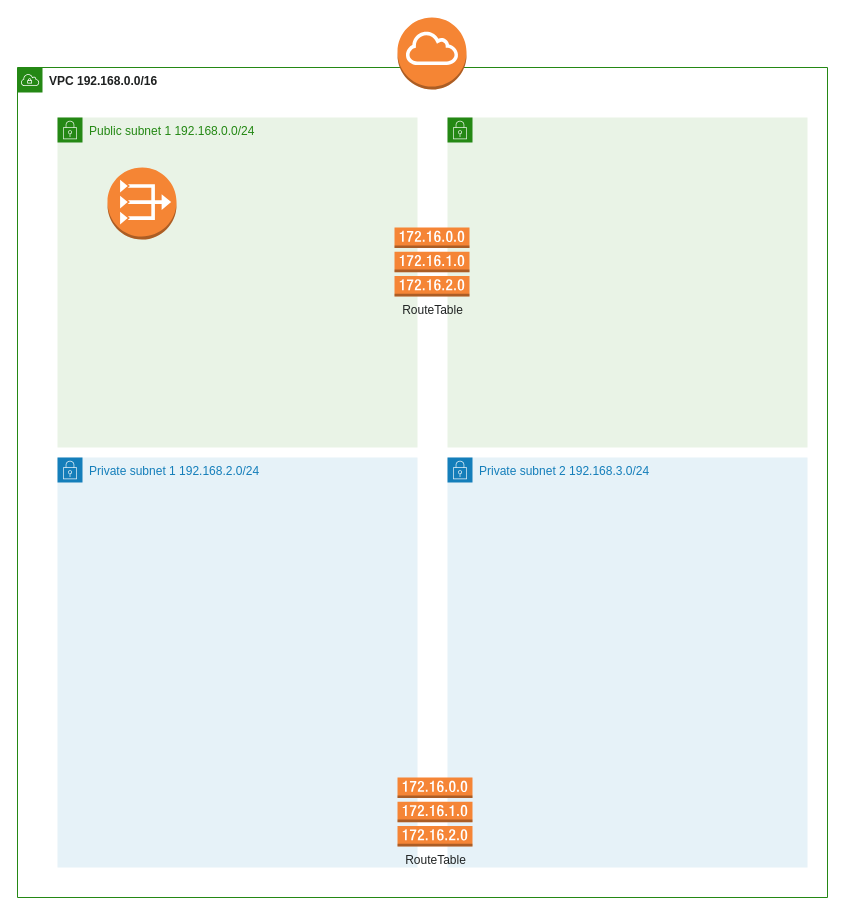
Some shapes in this 845 by 915 pixel diagram are drawn without their labels. Each missing label, with the centre of its shape:
"Internet Gateway" belongs at point 431,53.
"NAT Gateway" belongs at point 141,203.
"Public subnet 2 192.168.1.0/24" belongs at point 627,282.
